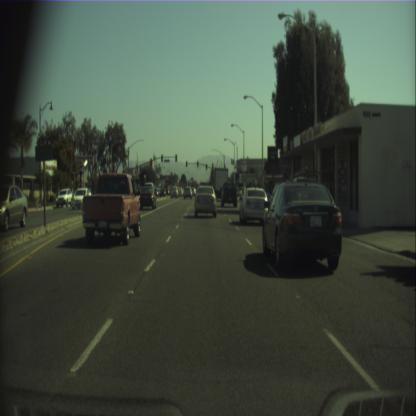Green: (186, 160, 188, 166), (196, 160, 198, 166), (205, 163, 207, 169)
